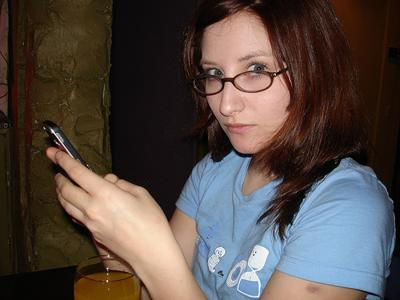person: (45, 2, 396, 300)
